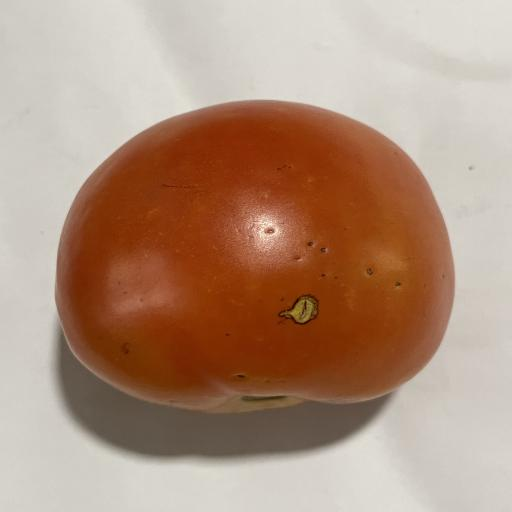ripe: (56, 101, 454, 412)
